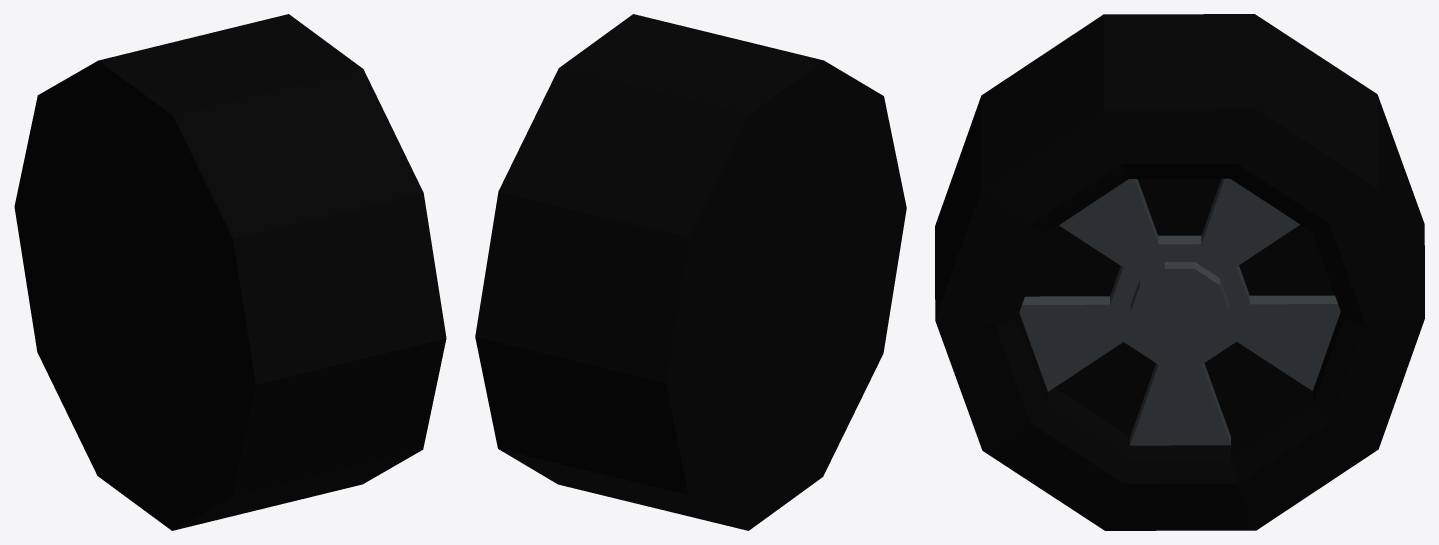
Rendered from Wheel_02.fbx.
3 renders of one model, left to right at view 1: azimuth 30°, elevation 25°; view 2: azimuth 150°, elevation 25°; view 3: azimuth 270°, elevation 25°, orthographic.
Parts seen in each view (by area): view 1: Wheel_02; view 2: Wheel_02; view 3: Wheel_02.
Part boxes in pixels (<box>): Wheel_02: <box>14,14,446,530</box>; Wheel_02: <box>475,14,906,530</box>; Wheel_02: <box>935,14,1424,530</box>.
Bounding box in the file's own units: 26.78 × 53.64 × 56.35.
